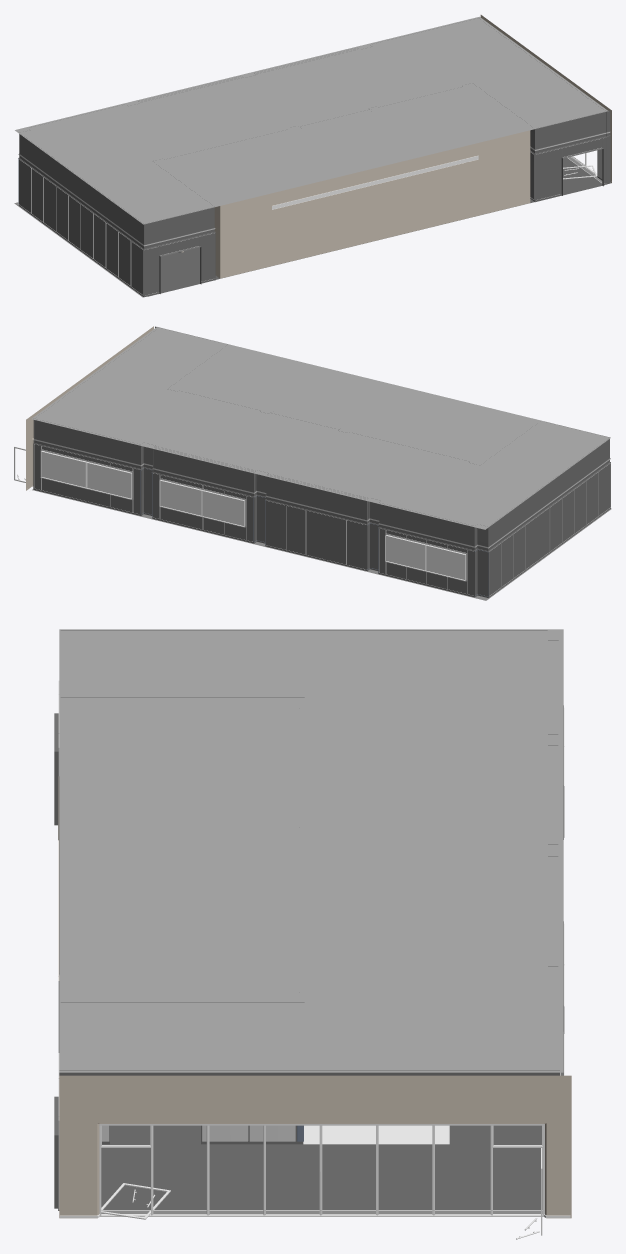
3 renders of one model, top to bottom at view 1: azimuth 30°, elevation 25°; view 2: azimuth 150°, elevation 25°; view 3: azimuth 270°, elevation 25°, orthographic. The views are drawn at different scales.
Visible parts, largest first — view 1: SM_H_Building_FutureTech_CtControl_01_InterWall_10; view 2: SM_H_Building_FutureTech_CtControl_01_InterWall_10; view 3: SM_H_Building_FutureTech_CtControl_01_InterWall_10.
Part boxes in pixels (box(x1,y1,x2,y2)): SM_H_Building_FutureTech_CtControl_01_InterWall_10: box(14, 15, 611, 297); SM_H_Building_FutureTech_CtControl_01_InterWall_10: box(14, 326, 611, 600); SM_H_Building_FutureTech_CtControl_01_InterWall_10: box(54, 629, 571, 1239).
Bounding box in the file's own units: 588 × 1261 × 179.
